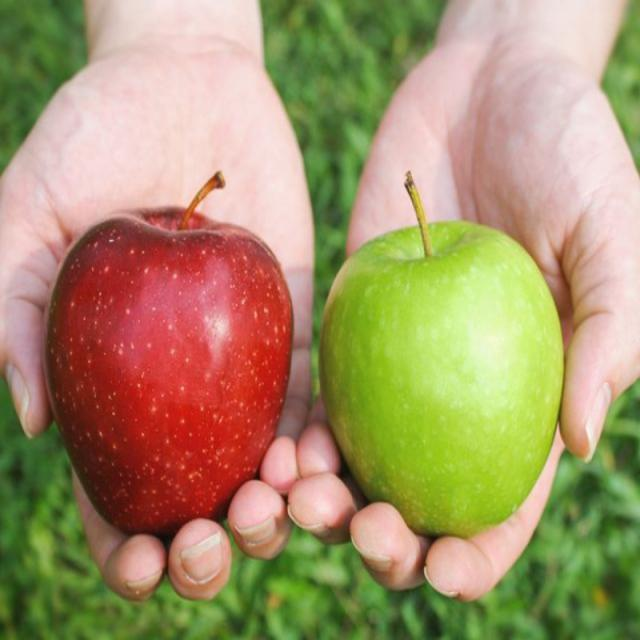Fresh Apple: (42, 205, 293, 546), (317, 220, 564, 540)
